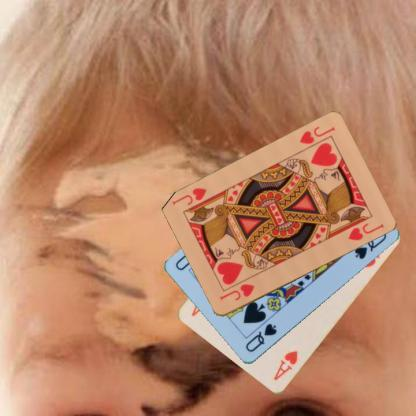Ah: (271, 348, 299, 382)
Jh: (296, 124, 336, 146), (217, 282, 255, 302)
Qs: (243, 321, 278, 354)
